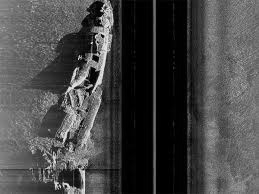ship: (49, 2, 114, 192)
